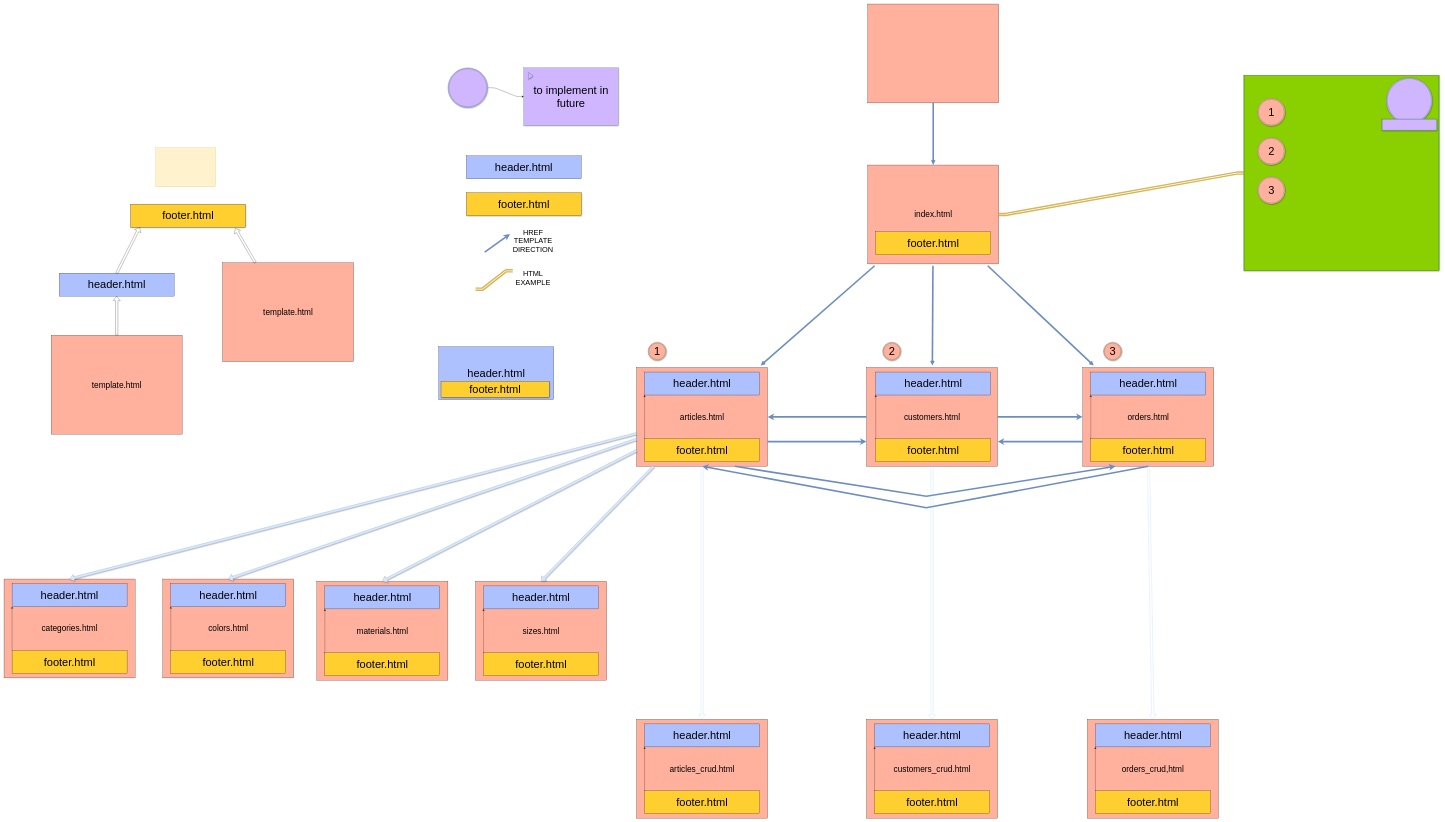
Image size: 1445x822. Some labels were removed from this diagram. The centre of each missing label's shape, as x and y in pixels:
INHERET STATUS: pixel 186 167
login.html: pixel 933 53
user picture: pixel 1409 100
username: pixel 1409 125
